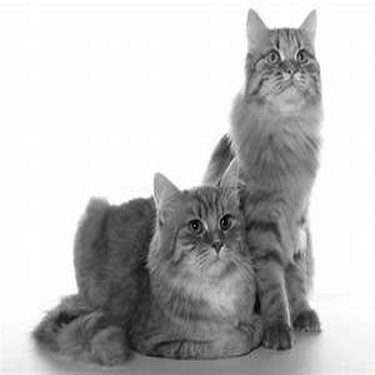cat: (27, 172, 265, 364), (205, 5, 323, 354)
